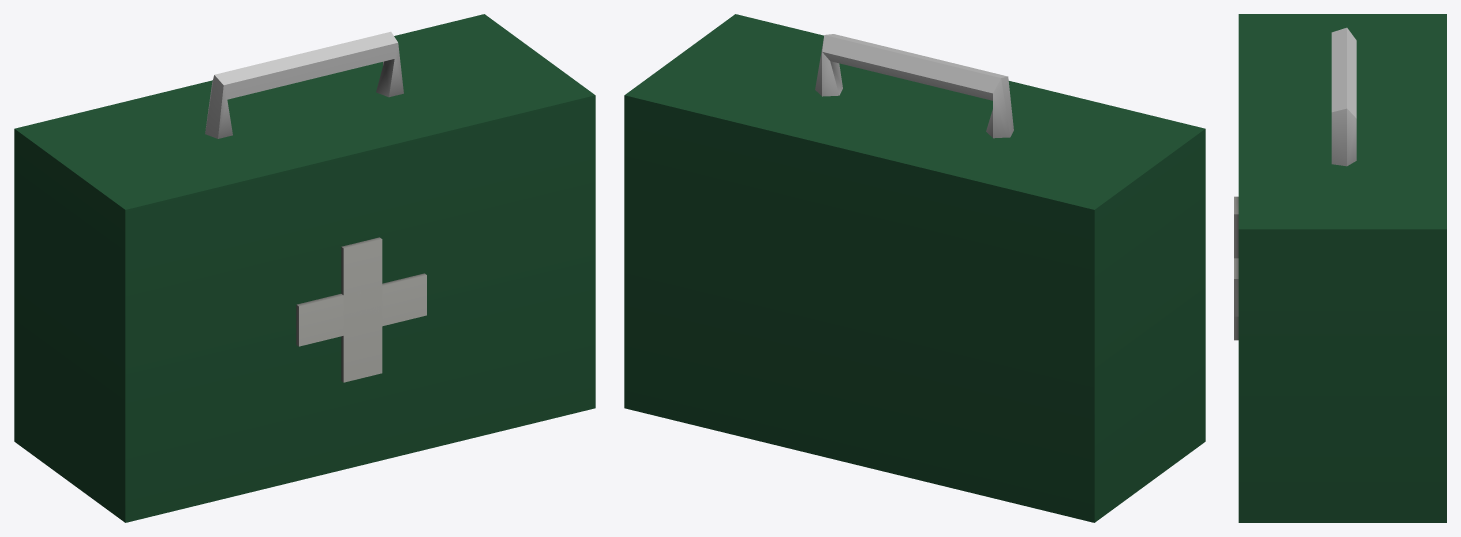
Rendered from botiquin.glb.
3 renders of one model, left to right at view 1: azimuth 30°, elevation 25°; view 2: azimuth 150°, elevation 25°; view 3: azimuth 270°, elevation 25°, orthographic. The views are drawn at different scales.
Parts seen in each view (by area): view 1: botiquin; view 2: botiquin; view 3: botiquin.
Part boxes in pixels (x1=…): botiquin: x1=14, y1=14, x2=595, y2=522; botiquin: x1=624, y1=14, x2=1205, y2=522; botiquin: x1=1234, y1=14, x2=1446, y2=522.
Bounding box in the file's own units: 0.22 × 0.1655 × 0.092.
